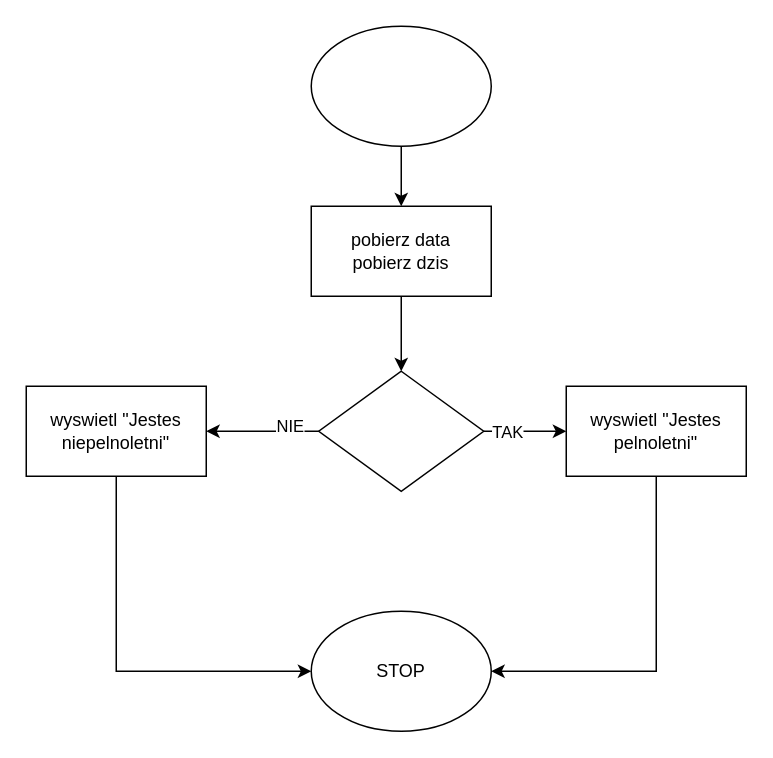
Image size: 773x758. Some labels were removed from this diagram. Each missing label, with the centre of its shape:
"dzis - data => 18" goes at pixel 400 430.
"START" goes at pixel 400 85.
